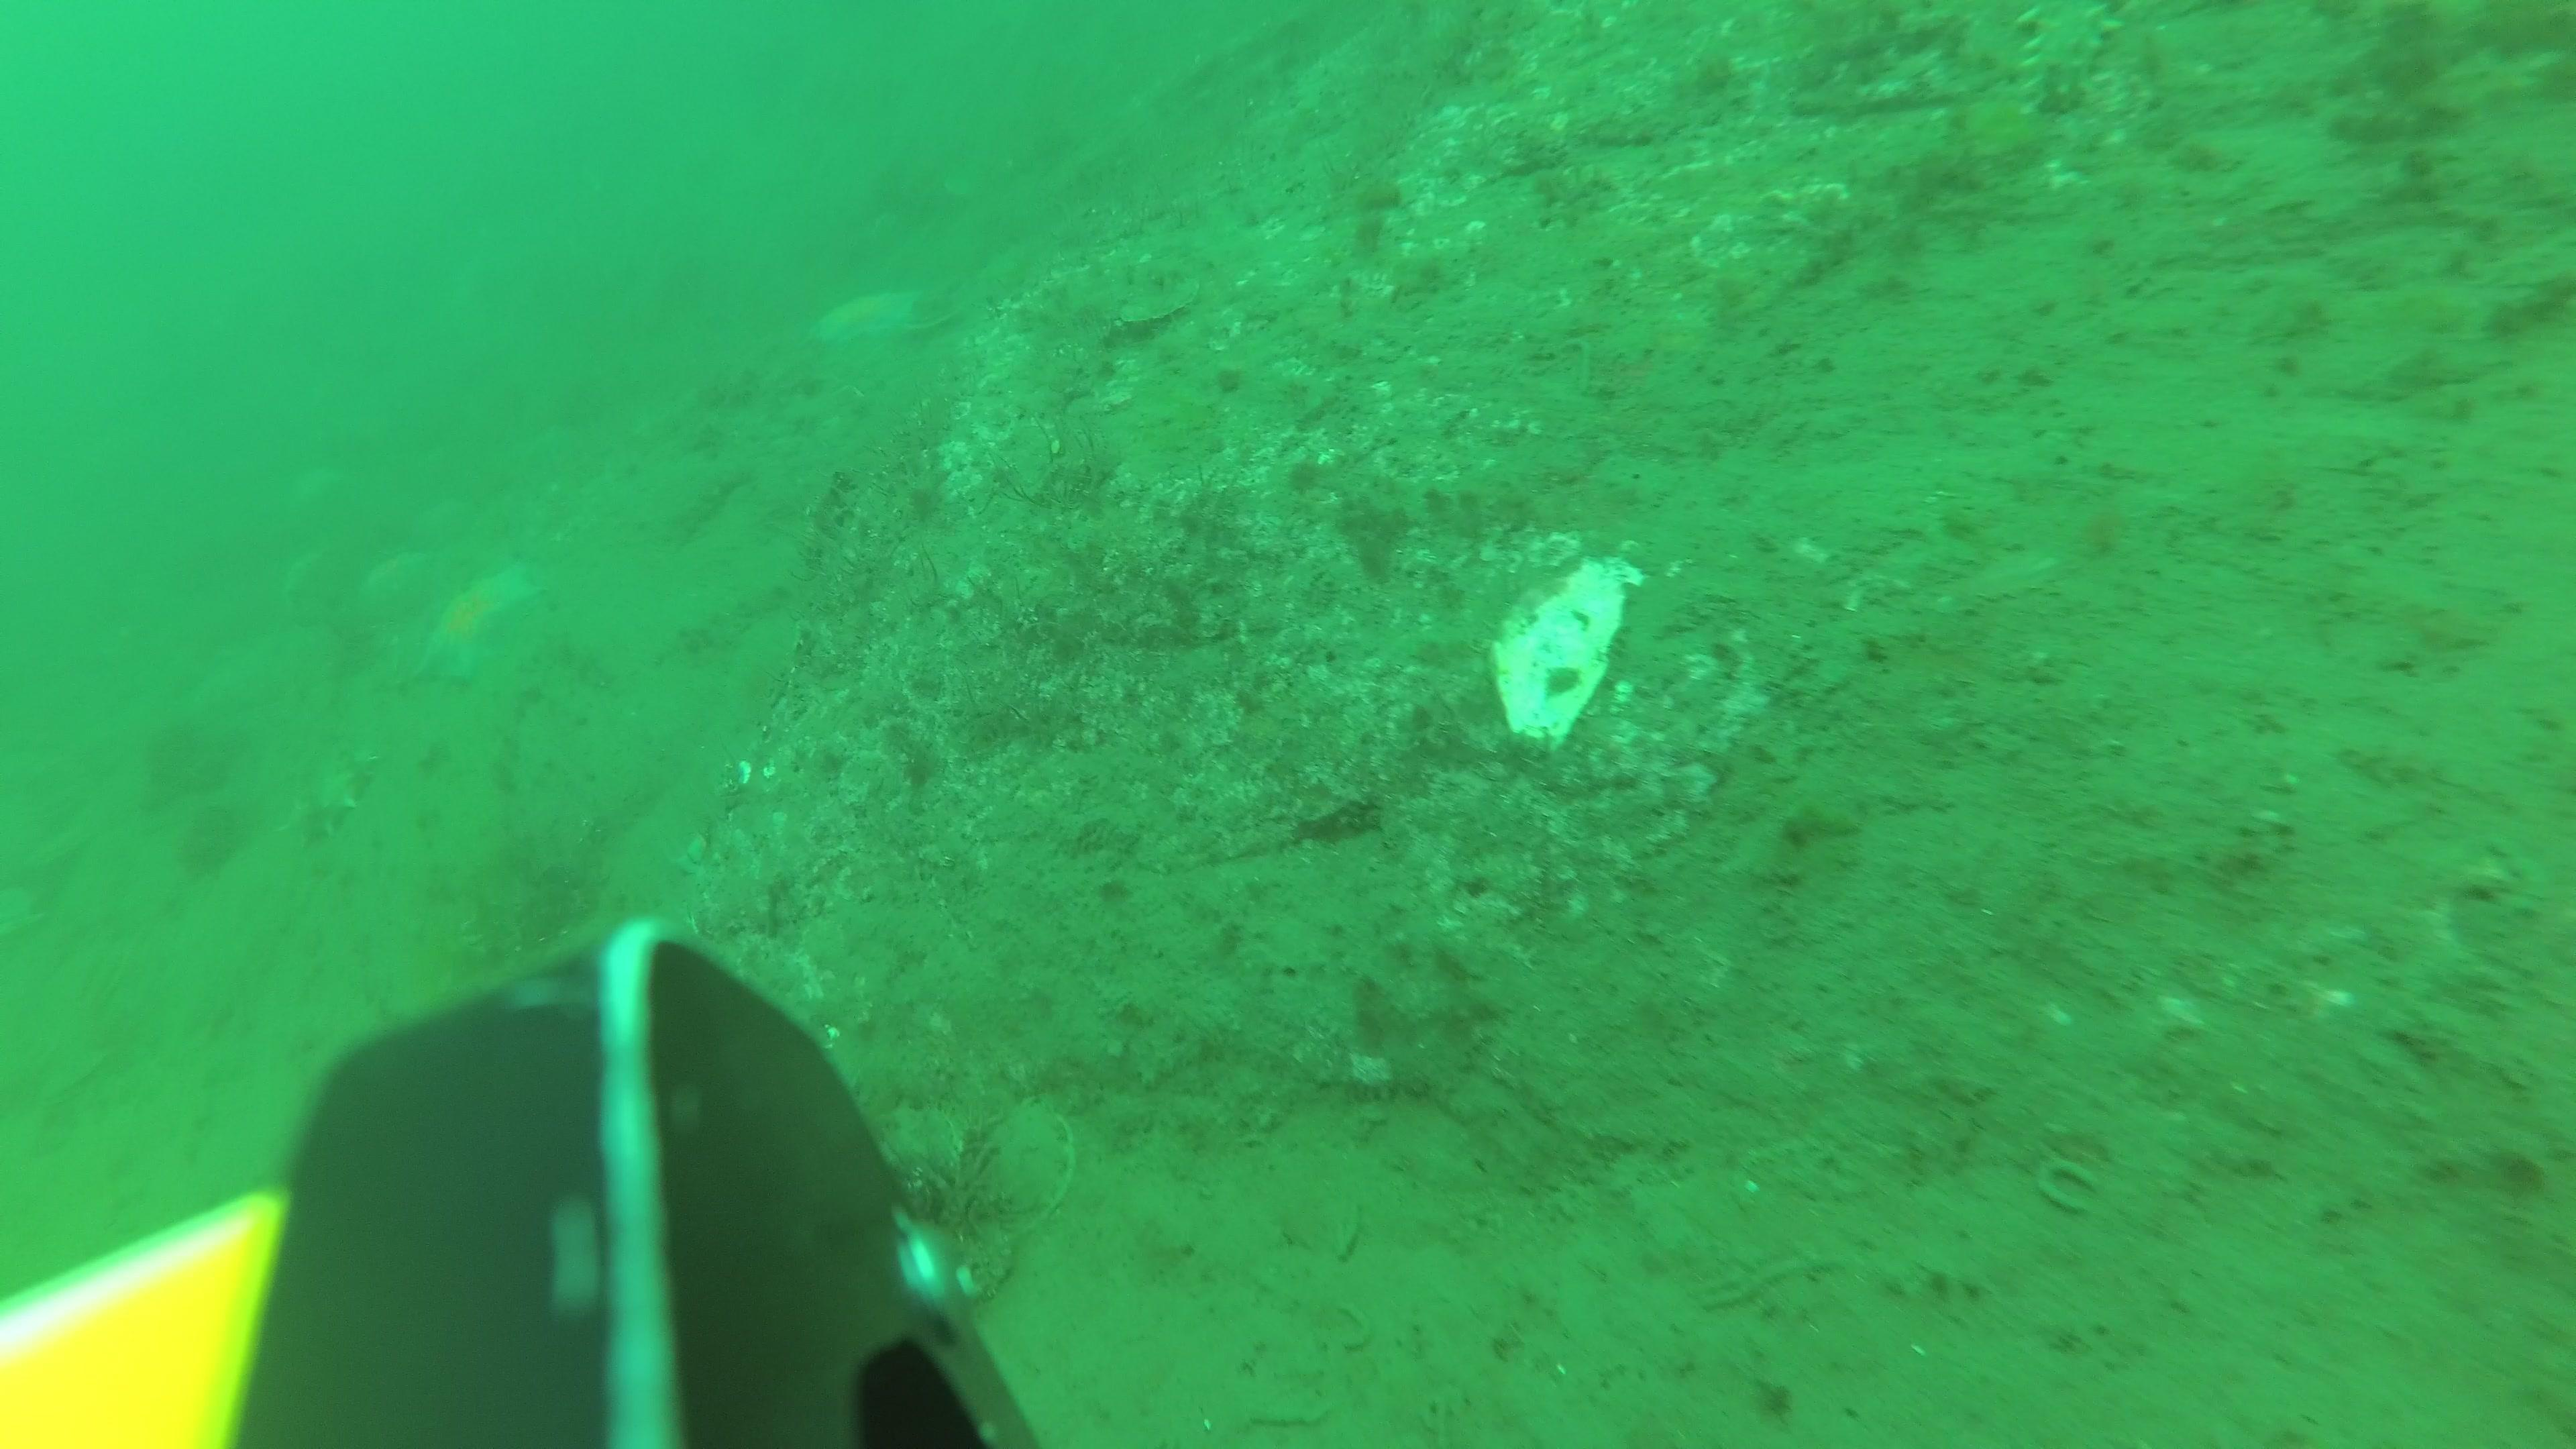holothurian: (295, 747, 375, 842)
starfish: (418, 561, 540, 688), (809, 292, 922, 354)
